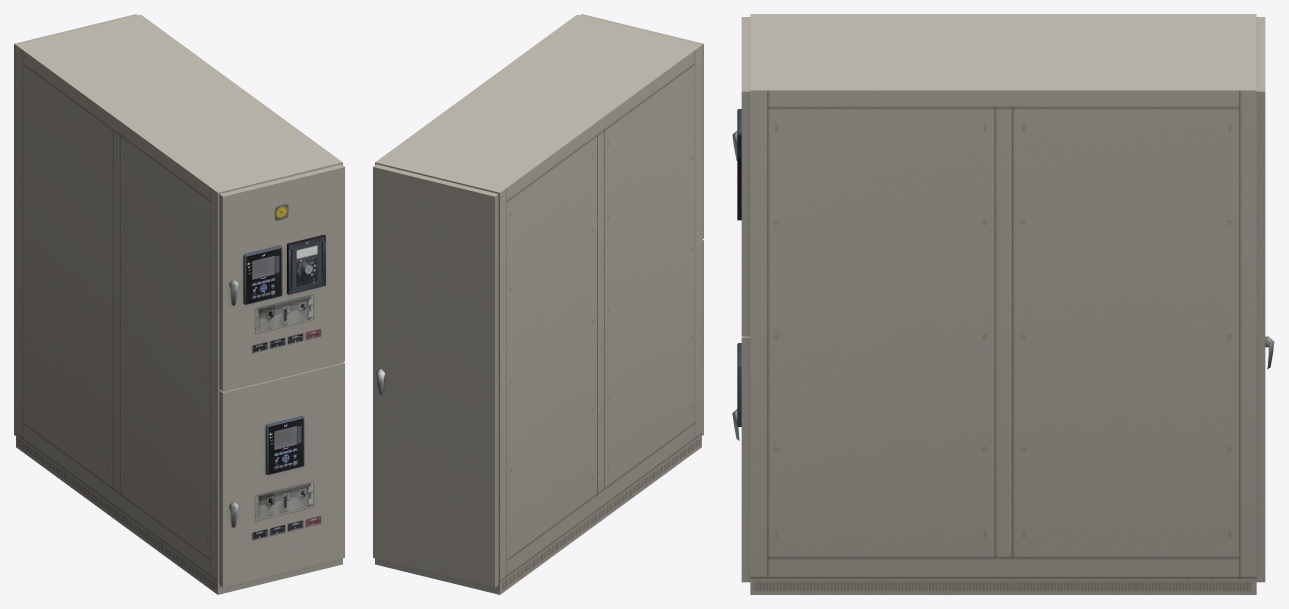
3 views of the same model, side by side, from view 1: azimuth 30°, elevation 25°; view 2: azimuth 150°, elevation 25°; view 3: azimuth 270°, elevation 25° (orthographic). The views are drawn at different scales.
Parts seen in each view (by area): view 1: HV_A111_7UA_UP_cap, HV_A111_7UA_DN_cap, HV_A111_7UA_DN, HV_A111_7UA_UP, sign01_103, sign01_102, Sign02_028; view 2: HV_A111_7UA_UP_cap, HV_A111_7UA_DN_cap, HV_A111_7UA_UP, HV_A111_7UA_DN; view 3: HV_A111_7UA_UP_cap, HV_A111_7UA_DN_cap, HV_A111_7UA_UP, HV_A111_7UA_DN.
Part boxes in pixels (left/top/right/bottom): HV_A111_7UA_UP_cap: left=16, top=14, right=342, bottom=388; HV_A111_7UA_DN_cap: left=16, top=241, right=238, bottom=594; HV_A111_7UA_DN: left=14, top=238, right=344, bottom=594; HV_A111_7UA_UP: left=14, top=14, right=344, bottom=390; sign01_103: left=265, top=416, right=304, bottom=474; sign01_102: left=243, top=245, right=282, bottom=304; Sign02_028: left=287, top=235, right=325, bottom=294; HV_A111_7UA_UP_cap: left=375, top=14, right=701, bottom=388; HV_A111_7UA_DN_cap: left=376, top=241, right=701, bottom=594; HV_A111_7UA_UP: left=373, top=14, right=703, bottom=391; HV_A111_7UA_DN: left=373, top=239, right=703, bottom=594; HV_A111_7UA_UP_cap: left=732, top=14, right=1256, bottom=336; HV_A111_7UA_DN_cap: left=732, top=336, right=1274, bottom=594; HV_A111_7UA_UP: left=741, top=17, right=1265, bottom=335; HV_A111_7UA_DN: left=741, top=336, right=1265, bottom=582.
Bounding box in the file's own units: 0.83 × 2.55 × 2.48.
Materials: 4 (4 with a texture image).
